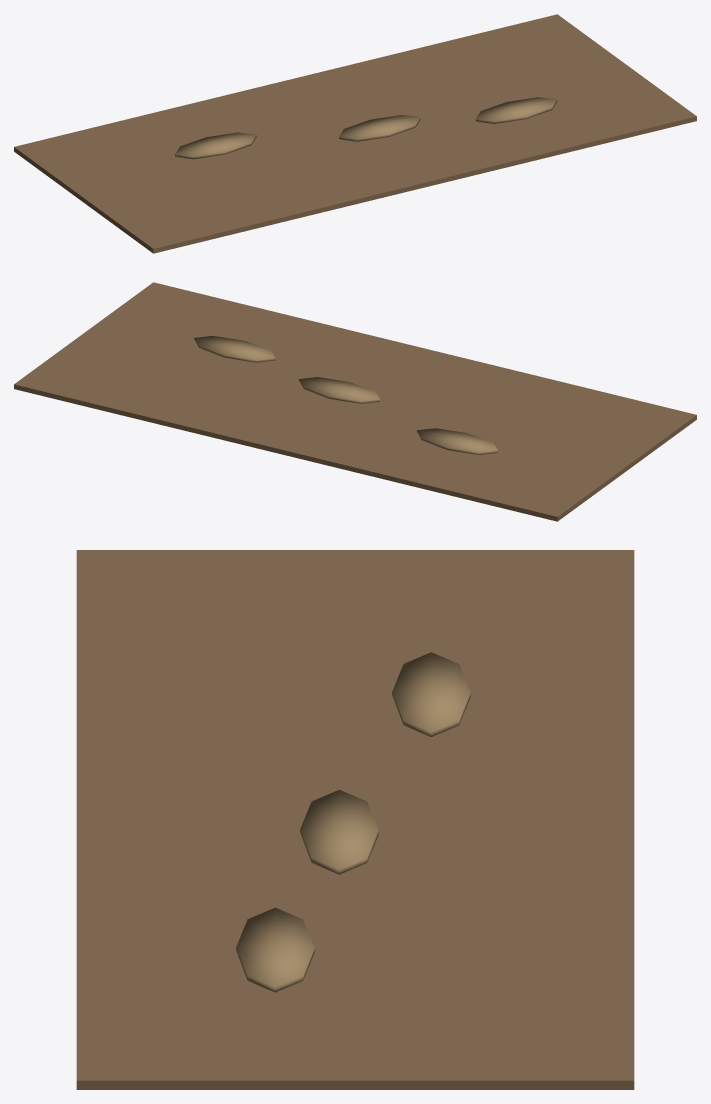
Rendered from mud_patch.glb.
3 renders of one model, top to bottom at view 1: azimuth 30°, elevation 25°; view 2: azimuth 150°, elevation 25°; view 3: azimuth 270°, elevation 25°, orthographic. The views are drawn at different scales.
Parts seen in each view (by area): view 1: mud_patch; view 2: mud_patch; view 3: mud_patch.
Boxes of the visible parts, left/top/right/bottom form: mud_patch: left=14, top=14, right=696, bottom=253; mud_patch: left=14, top=282, right=696, bottom=521; mud_patch: left=76, top=550, right=634, bottom=1089.
Size of the model in its own units: 5.4 by 0.0835 by 2.4.
